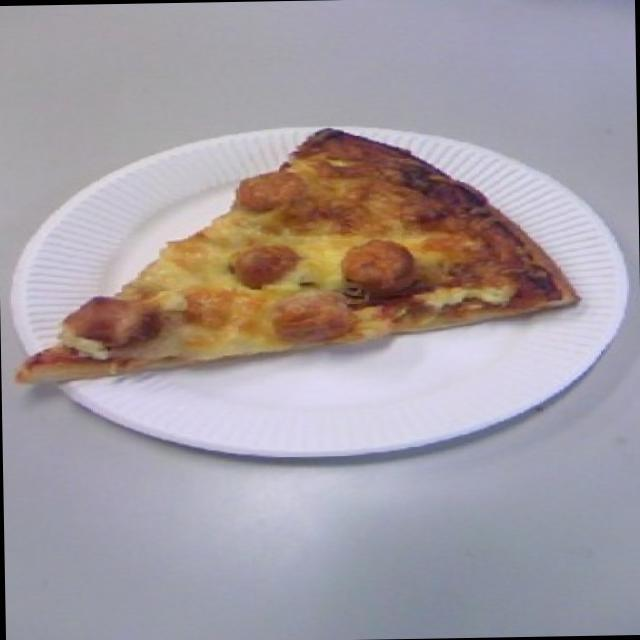Pizza: (27, 132, 580, 382)
